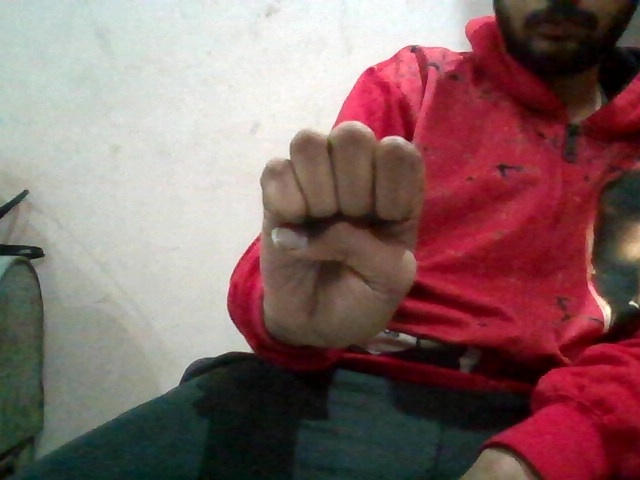E: (225, 110, 445, 361)
